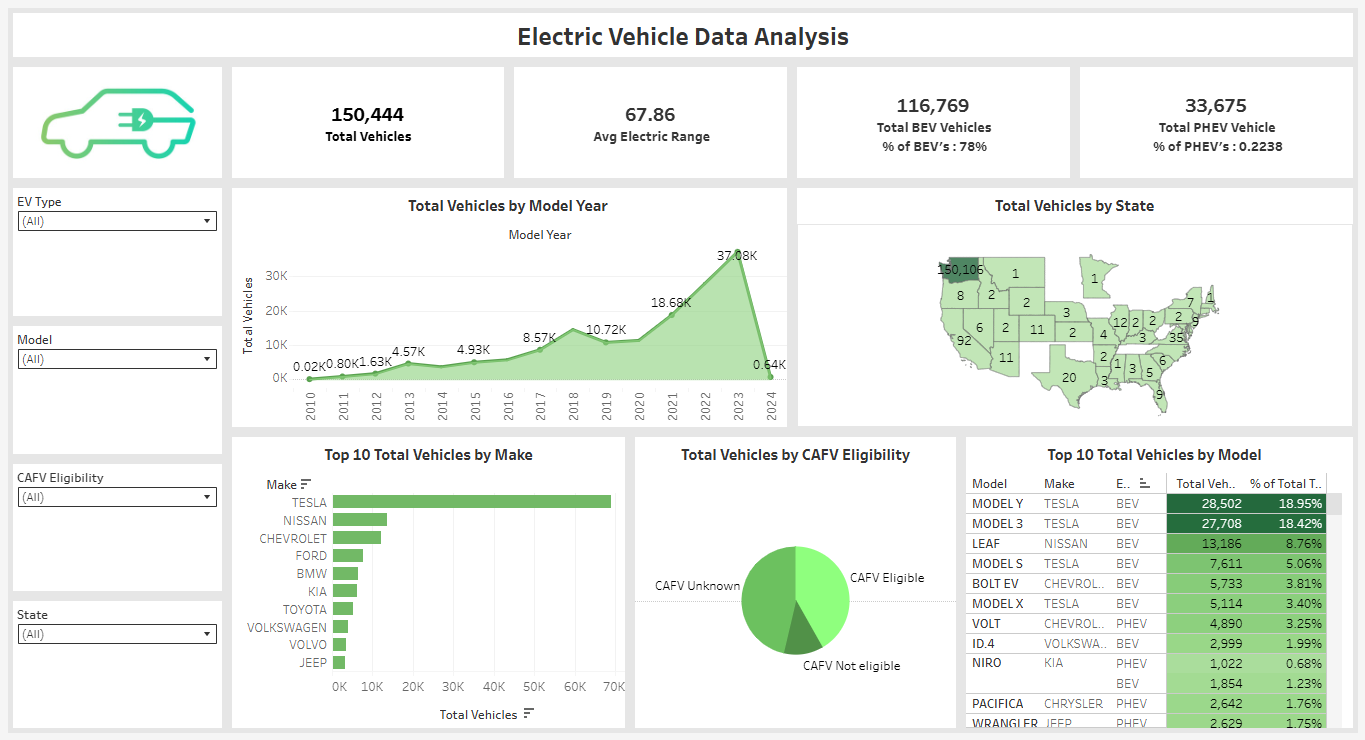

This screenshot's page, from the dashboard's own definition file:
{"tool":"tableau","page":{"name":"Electric Vehicle Data Analysis","canvas":[1000,1000],"units":"permille","ordinal":0},"visuals":[{"type":"title","box":[6.9,14.7,986.1,73]},{"type":"image","param":"D:/Beasant Tech/Tableau/Project/Vehicle Logo.jpeg","box":[6.9,87.7,160,161.9]},{"type":"worksheet","title":"Total Vehicles","mark":"Automatic","box":[166.9,87.7,206.1,161.5]},{"type":"worksheet","title":"Avg Electric Range","mark":"Automatic","box":[373,87.7,206.4,161.5]},{"type":"worksheet","title":"Total BEV Vehicles ","mark":"Automatic","box":[579.4,87.7,206.7,161.5]},{"type":"worksheet","title":"Total PHEV Vehicles ","mark":"Automatic","box":[786.1,87.7,206.9,161.5]},{"type":"worksheet","title":"Total Vehicles by Model Year ","mark":"Line","rows":["Calculation_1369482291232769","Calculation_1369482291232769"],"cols":["Model Year"],"box":[166.9,249.2,412.9,332.6]},{"type":"worksheet","title":"Total Vehicles by State","mark":"Multipolygon","box":[579.8,249.2,413.3,332.6]},{"type":"filter","title":"Top 10 Total Vehicles by Model","param":"[federated.1uh463u018yj16127cntr0uwhhsf].[none:Electric Vehicle Type:nk]","box":[6.9,250,160.2,183.8]},{"type":"filter","title":"Top 10 Total Vehicles by Model","param":"[federated.1uh463u018yj16127cntr0uwhhsf].[none:Model:nk]","box":[6.9,433.8,160.2,183.8]},{"type":"worksheet","title":"Top 10 Total Vehicles by Make","mark":"Automatic","rows":["Make"],"cols":["Calculation_1369482291232769"],"box":[166.9,581.8,294.5,403.5]},{"type":"worksheet","title":"Total Vehicles by CAFV Eligibility","mark":"Pie","rows":["Calculation_1197959912972289","Calculation_1197959913136131"],"box":[461.4,581.8,241.6,403.5]},{"type":"worksheet","title":"Top 10 Total Vehicles by Model","mark":"Square","rows":["Model","Make","Electric Vehicle Type"],"box":[703,581.8,290.1,403.5]},{"type":"filter","title":"Total Vehicles by CAFV Eligibility","param":"[federated.1uh463u018yj16127cntr0uwhhsf].[none:Clean Alternative Fuel Vehicle (C","box":[6.9,617.6,160.2,183.8]},{"type":"filter","title":"Avg Electric Range","param":"[federated.1uh463u018yj16127cntr0uwhhsf].[none:State:nk]","box":[6.9,801.5,160.2,183.8]}]}

Visuals, with their boxes on the dashboard's canvas, which has no fixed pixel size, in thousandths of its width and height (x1, y1, x2, y2). These are canvas units, not pixel positions in the 1365x740 screenshot, which may show the page scaled, cropped or inside an application window:
title: <box>7,15,993,88</box>
image: <box>7,88,167,250</box>
"Total Vehicles" worksheet: <box>167,88,373,249</box>
"Avg Electric Range" worksheet: <box>373,88,579,249</box>
"Total BEV Vehicles " worksheet: <box>579,88,786,249</box>
"Total PHEV Vehicles " worksheet: <box>786,88,993,249</box>
"Total Vehicles by Model Year " worksheet (Line marks): <box>167,249,580,582</box>
"Total Vehicles by State" worksheet (Multipolygon marks): <box>580,249,993,582</box>
"Top 10 Total Vehicles by Model" filter: <box>7,250,167,434</box>
"Top 10 Total Vehicles by Model" filter: <box>7,434,167,618</box>
"Top 10 Total Vehicles by Make" worksheet: <box>167,582,461,985</box>
"Total Vehicles by CAFV Eligibility" worksheet (Pie marks): <box>461,582,703,985</box>
"Top 10 Total Vehicles by Model" worksheet (Square marks): <box>703,582,993,985</box>
"Total Vehicles by CAFV Eligibility" filter: <box>7,618,167,801</box>
"Avg Electric Range" filter: <box>7,802,167,985</box>
